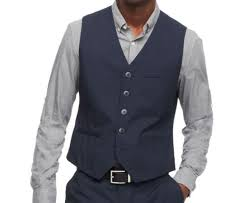F_belt: (77, 159, 180, 189)
